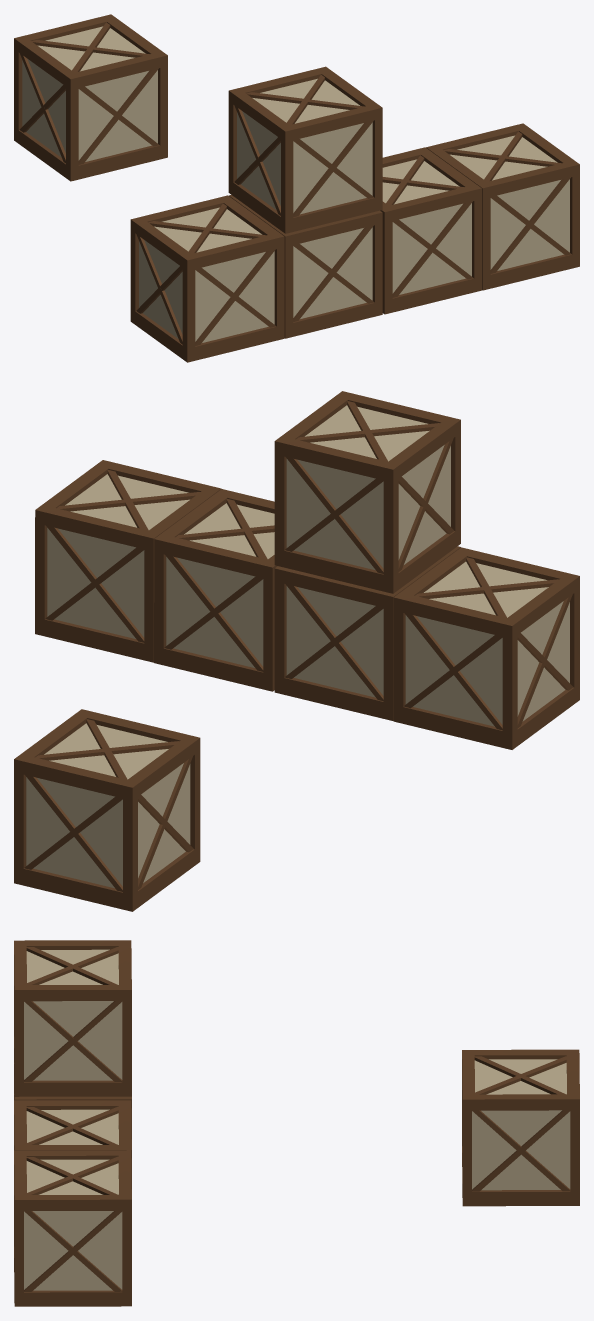
File: Wooden-box_001.fbx
3 views of the same model, one above another, from view 1: azimuth 30°, elevation 25°; view 2: azimuth 150°, elevation 25°; view 3: azimuth 270°, elevation 25° (orthographic). The views are drawn at different scales.
Visible parts, largest first — view 1: Wooden-box.001; view 2: Wooden-box.001; view 3: Wooden-box.001.
Part boxes in pixels (x1,y1,x2,y2): Wooden-box.001: (14, 14, 579, 362); Wooden-box.001: (14, 391, 579, 911); Wooden-box.001: (14, 940, 579, 1306).
Size of the model in its own units: 3.44 by 1.73 by 4.11.
